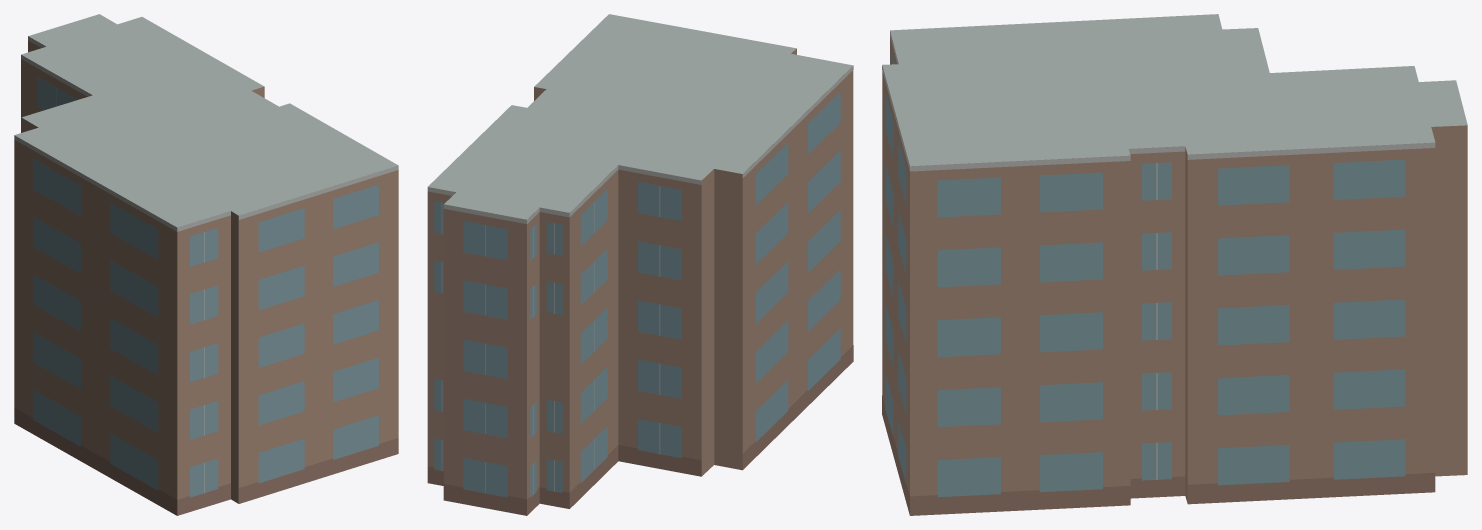
The model's file is survey-upis-32676371.glb.
3 views of the same model, side by side, from view 1: azimuth 30°, elevation 25°; view 2: azimuth 150°, elevation 25°; view 3: azimuth 270°, elevation 25° (orthographic). The views are drawn at different scales.
Parts seen in each view (by area): view 1: survey-upis-32676371.tmp; view 2: survey-upis-32676371.tmp; view 3: survey-upis-32676371.tmp.
Part boxes in pixels (x1,y1,x2,y2): survey-upis-32676371.tmp: (14,14,398,515); survey-upis-32676371.tmp: (427,14,853,515); survey-upis-32676371.tmp: (882,14,1467,515).
Size of the model in its own units: 15.08 by 16.14 by 24.51.
